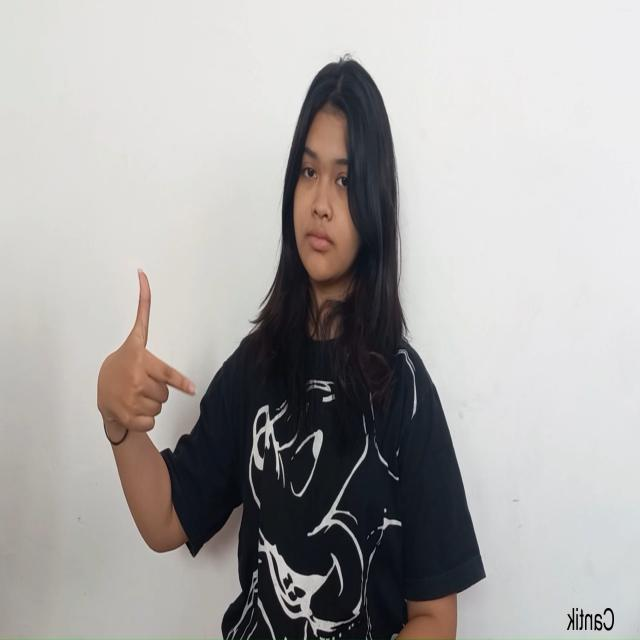Cantik -BISINDO-: (96, 267, 199, 468)
